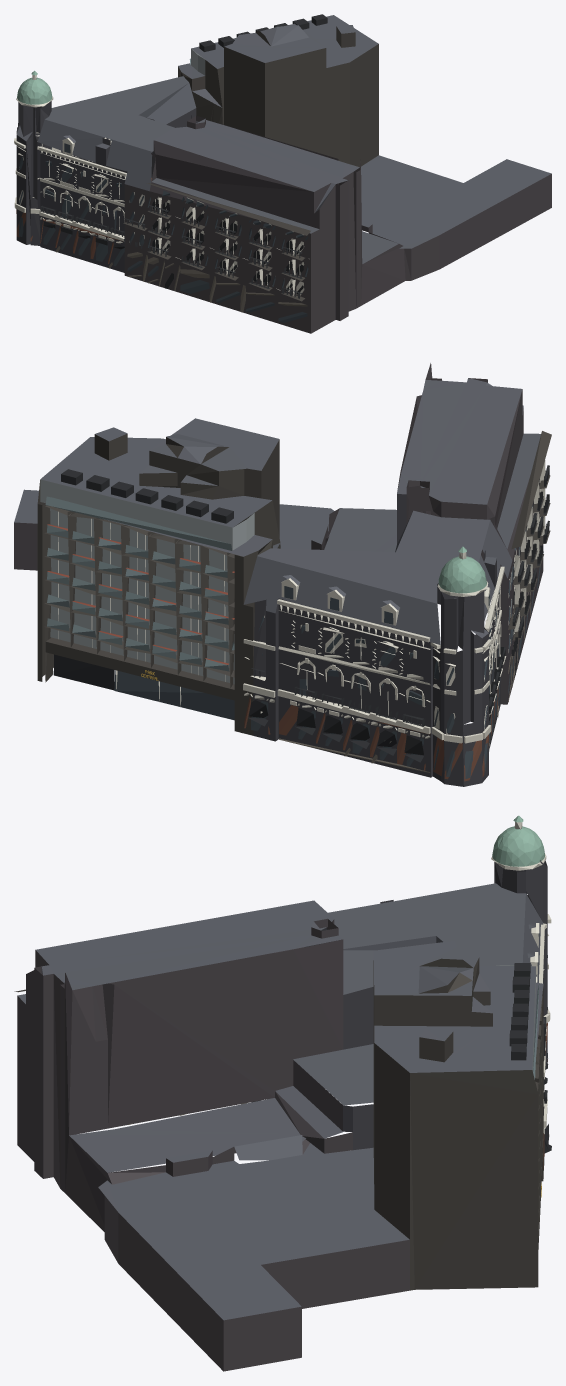
File: park-centraal-stadhouderskade.lod1.glb
3 renders of one model, top to bottom at view 1: azimuth 30°, elevation 25°; view 2: azimuth 150°, elevation 25°; view 3: azimuth 270°, elevation 25°, orthographic. The views are drawn at different scales.
Parts seen in each view (by area): view 1: park-centraal-stadhouderskade; view 2: park-centraal-stadhouderskade; view 3: park-centraal-stadhouderskade.
Boxes of the visible parts, x1,y1,x2,y2 form: park-centraal-stadhouderskade: (14, 14, 551, 333); park-centraal-stadhouderskade: (14, 363, 551, 786); park-centraal-stadhouderskade: (14, 815, 551, 1371).
Size of the model in its own units: 79.1 by 29.63 by 56.36.
